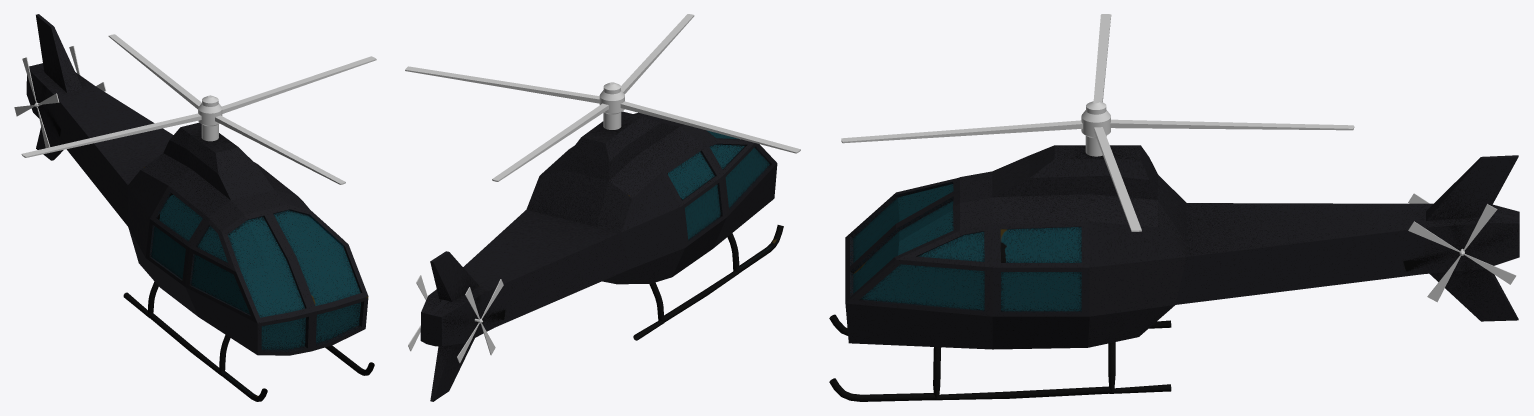
File: anim_000006.obj
The picture shows the model from 3 angles, left to right: view 1: azimuth 30°, elevation 25°; view 2: azimuth 150°, elevation 25°; view 3: azimuth 270°, elevation 25°; orthographic projection. The views are drawn at different scales.
Visible parts, largest first — view 1: Helicopter.007_Cylinder.008, Helicopter.001_Cylinder.001, Helicopter.004_Cylinder.005; view 2: Helicopter.007_Cylinder.008, Helicopter.001_Cylinder.001, Helicopter.004_Cylinder.005; view 3: Helicopter.007_Cylinder.008, Helicopter.001_Cylinder.001, Helicopter.003_Cylinder.004.
Part boxes in pixels (bbox=[...]): Helicopter.007_Cylinder.008: bbox=[26, 14, 374, 401]; Helicopter.001_Cylinder.001: bbox=[21, 34, 376, 184]; Helicopter.004_Cylinder.005: bbox=[14, 57, 59, 147]; Helicopter.007_Cylinder.008: bbox=[420, 111, 783, 401]; Helicopter.001_Cylinder.001: bbox=[405, 14, 800, 181]; Helicopter.004_Cylinder.005: bbox=[457, 279, 503, 363]; Helicopter.007_Cylinder.008: bbox=[829, 145, 1519, 401]; Helicopter.001_Cylinder.001: bbox=[841, 14, 1354, 231]; Helicopter.003_Cylinder.004: bbox=[1408, 204, 1516, 302].
Bounding box in the file's own units: 5.57 × 3.21 × 7.49.
